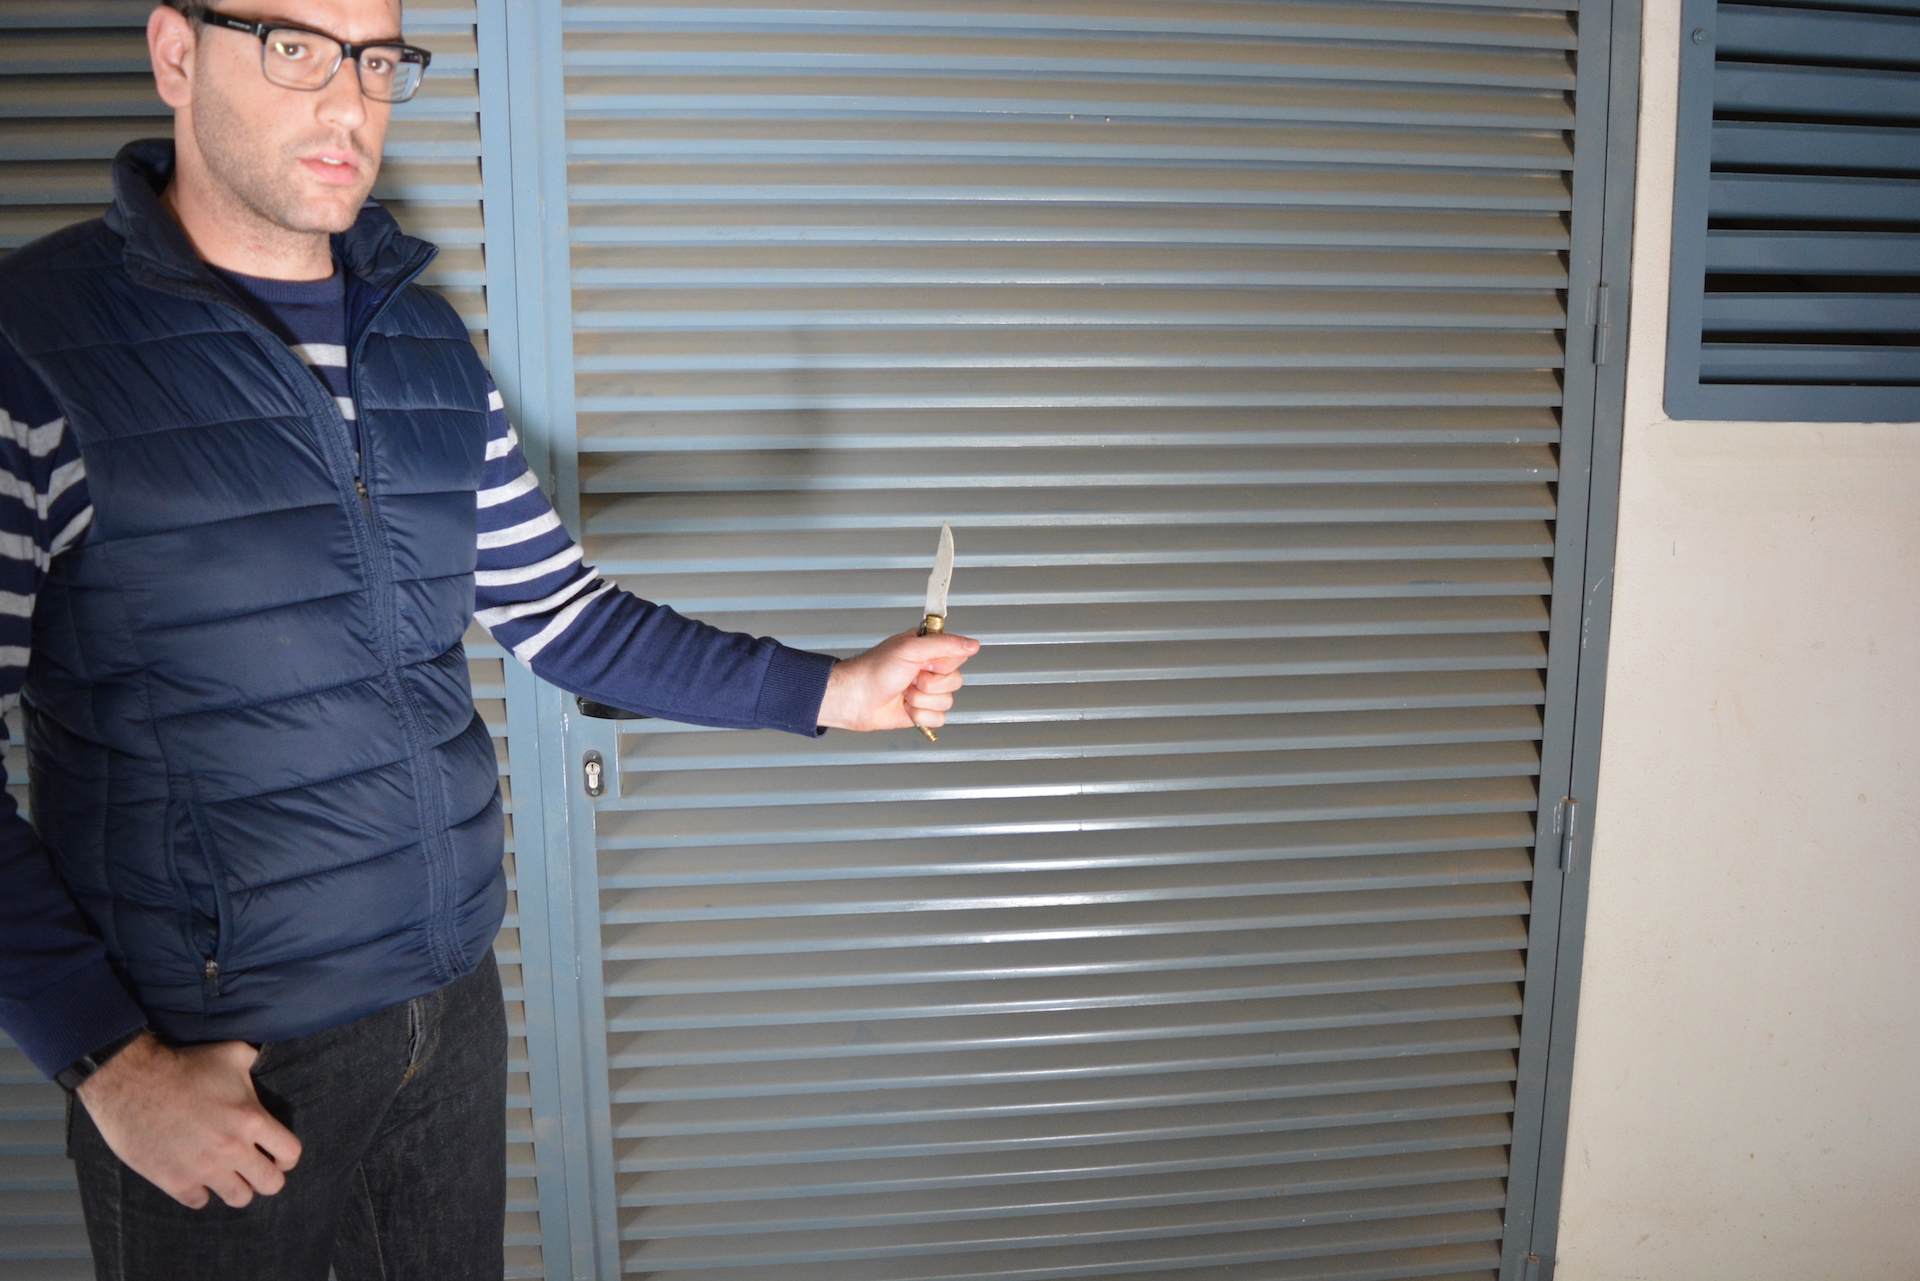knife: (896, 510, 965, 752)
